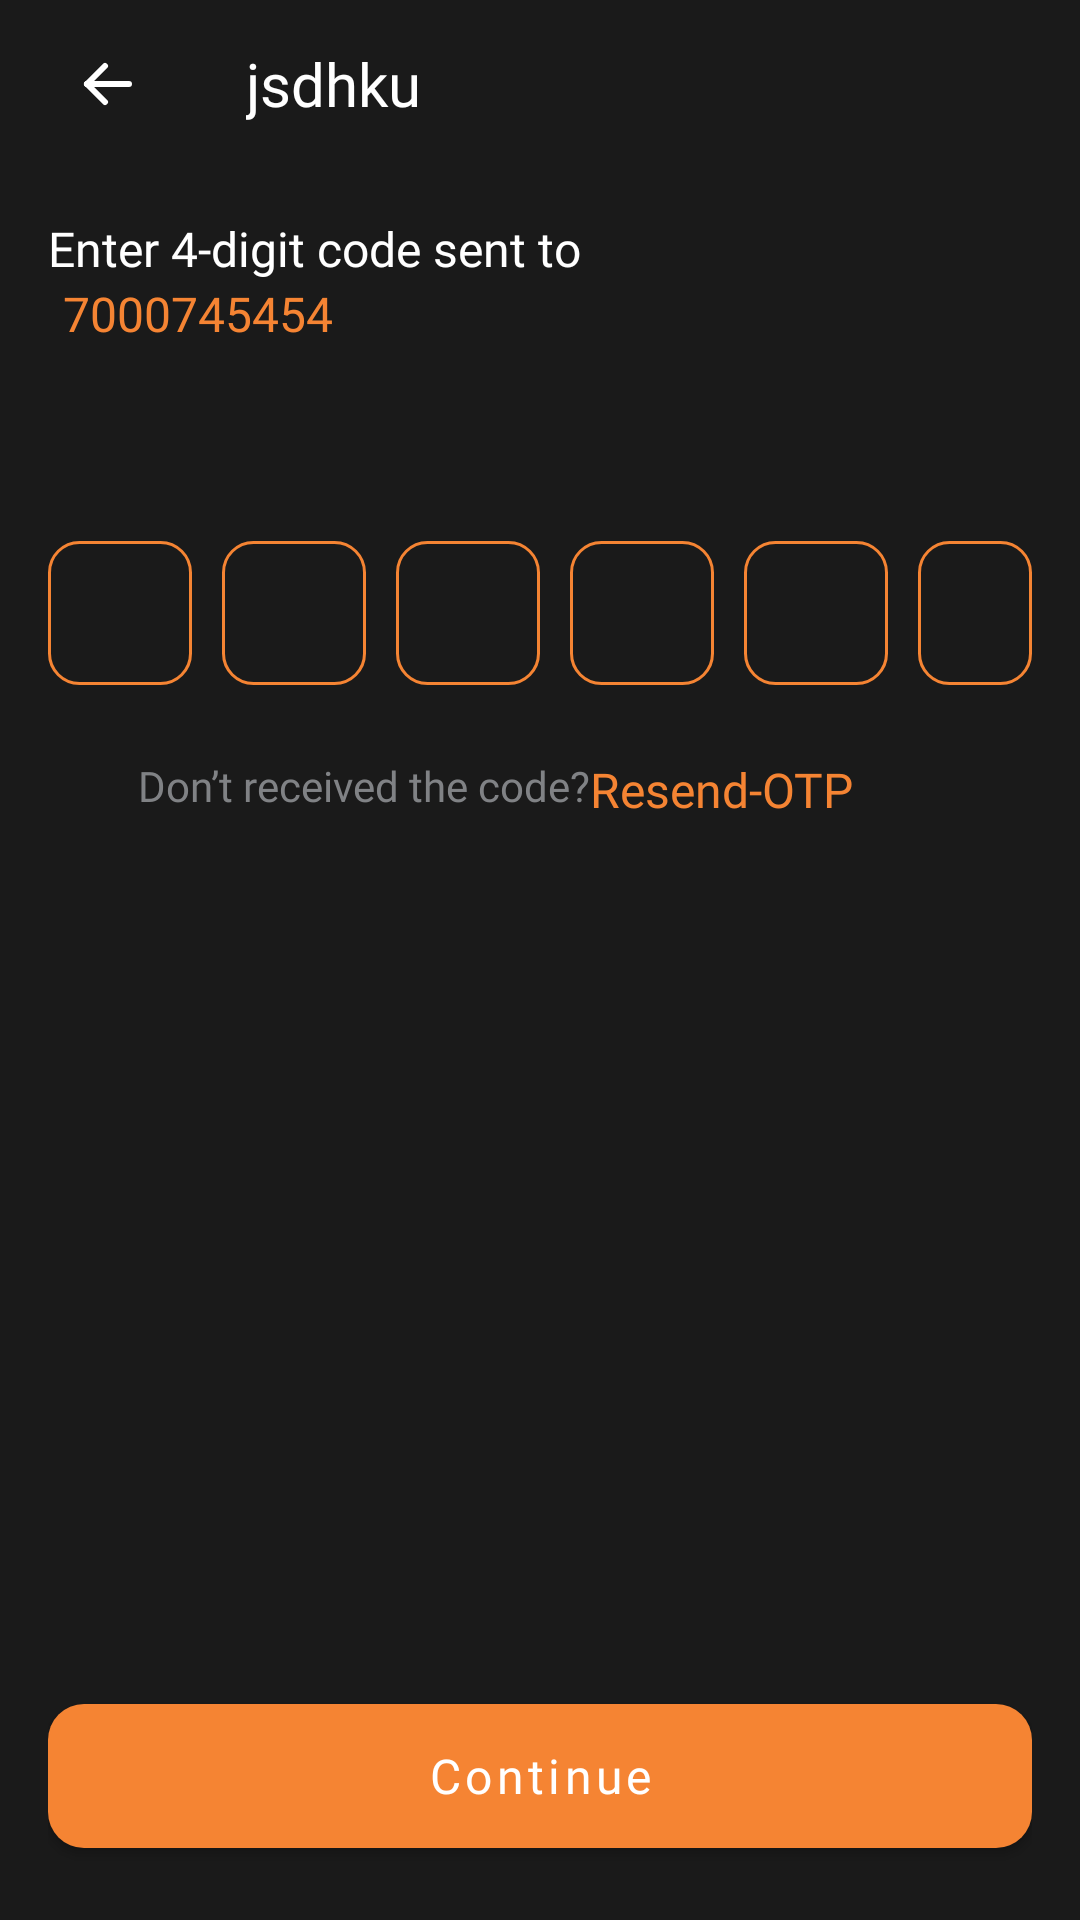

Icons on this 1080px×1920px Android screen, each with the point to tap as (x,y):
arrow left: (107,84)
